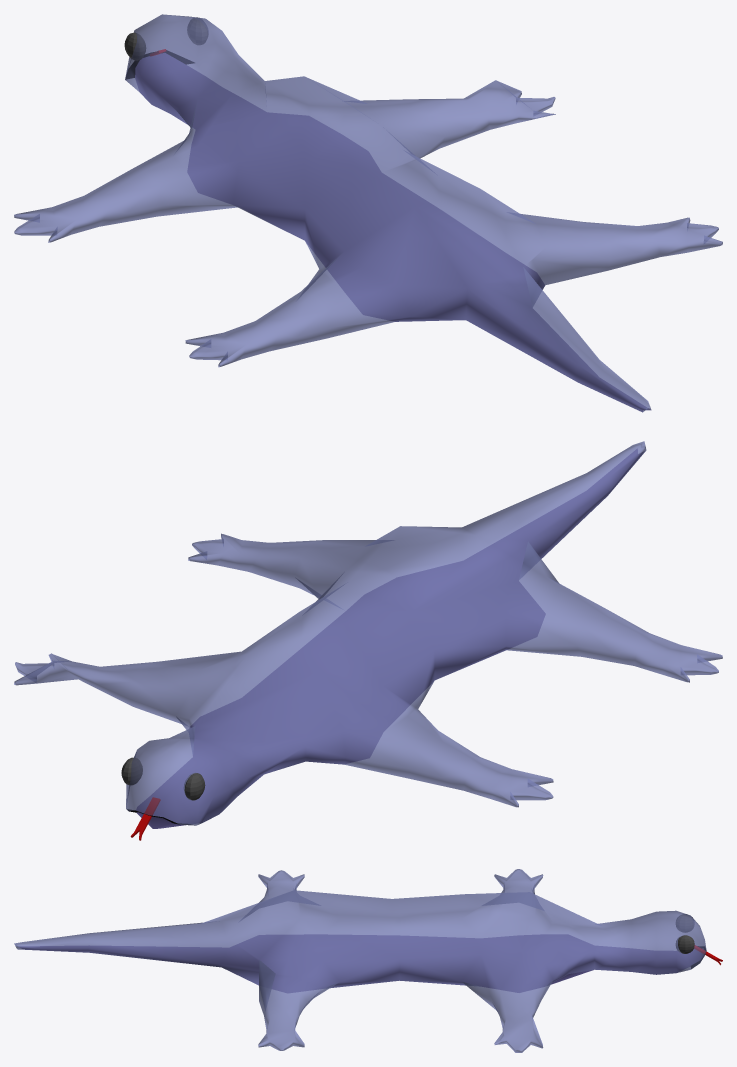
File: Crysta Lizard.fbx
3 views of the same model, one above another, from view 1: azimuth 30°, elevation 25°; view 2: azimuth 150°, elevation 25°; view 3: azimuth 270°, elevation 25° (orthographic). The views are drawn at different scales.
Visible parts, largest first — view 1: polySurface3; view 2: polySurface3; view 3: polySurface3.
Boxes of the visible parts, box(x1,y1,x2,y2) form: polySurface3: box(14, 14, 722, 412); polySurface3: box(14, 441, 722, 840); polySurface3: box(14, 869, 722, 1052).
Bounding box in the file's own units: 12.95 × 2.26 × 21.2.
